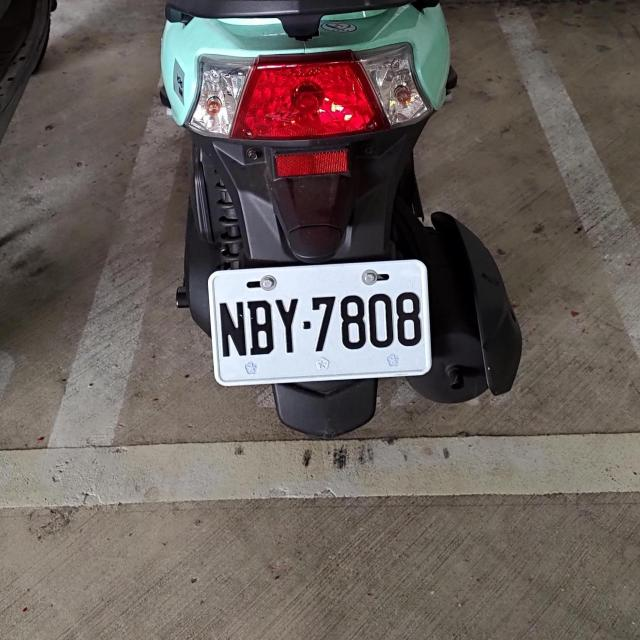W: (207, 255, 433, 388)
